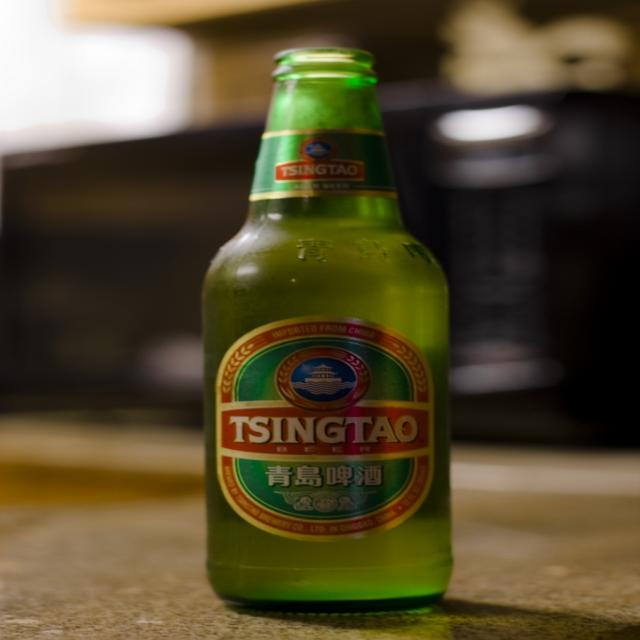tsingtao: (217, 315, 438, 544), (270, 138, 368, 186)
